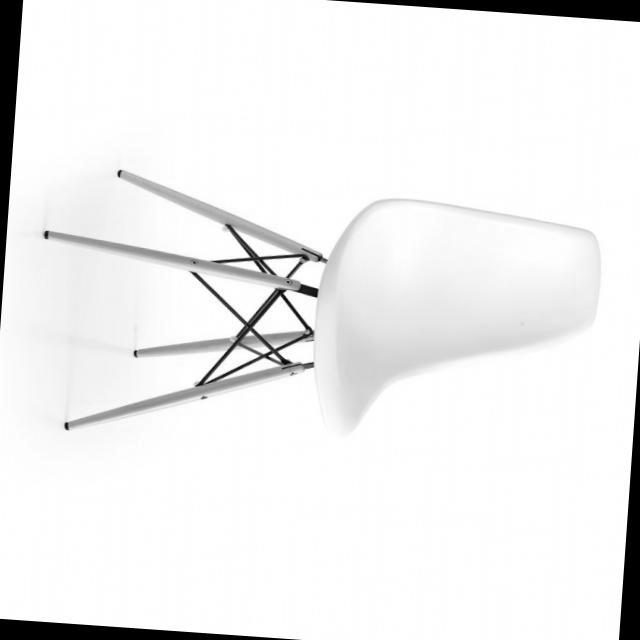chair: (19, 161, 610, 471)
